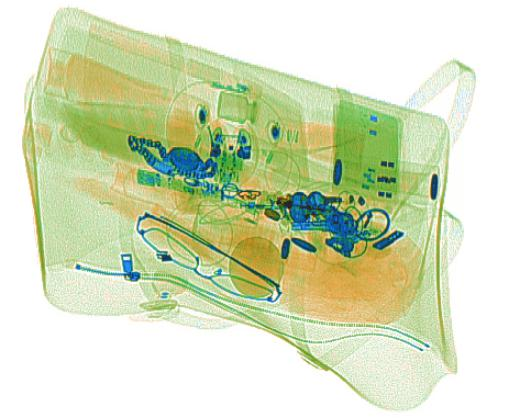USBFlashDisk: (134, 165, 210, 200)
plasticBottleWithaNozzle: (267, 115, 365, 169)
